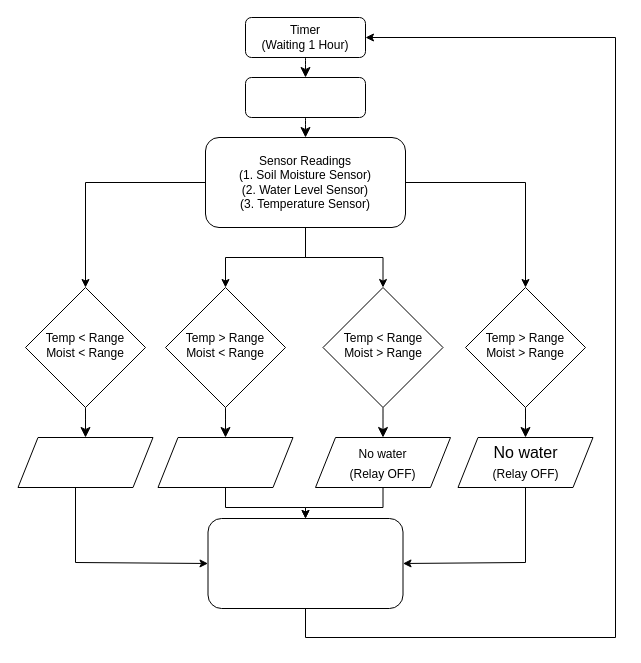
This 641x663 diagram has some shape labels left out. The shapes that lost their labels are listed below. From the top down, each one's centre as x and y in pixels, then its label:
At point 305,97: "Interrupt".
At point 85,462: "40% Water supply (5 sec Relay On)".
At point 225,462: "80% Water supply (10 sec Relay On)".
At point 305,563: "LCD(Display the current condition)".
